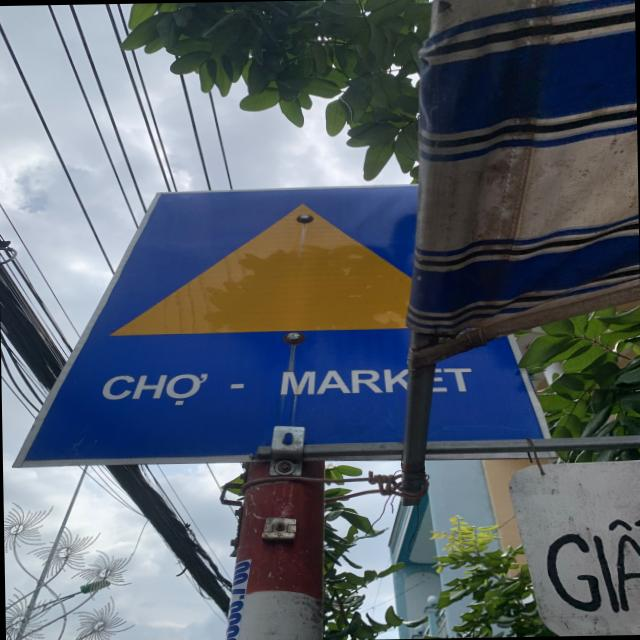Cho_Quay_Xe: (11, 177, 536, 458)
